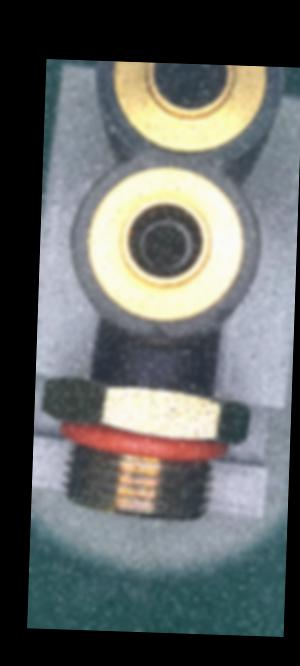bump: (210, 301, 239, 331), (149, 323, 177, 346)
white mark: (140, 374, 154, 387)
